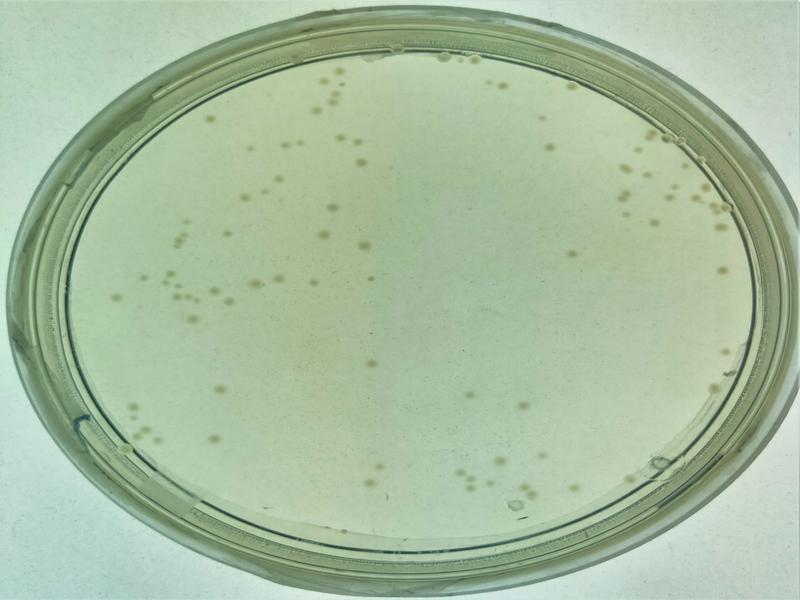colony: (206, 375, 239, 410), (308, 221, 340, 249), (484, 444, 517, 471), (710, 259, 738, 289), (300, 267, 328, 295), (513, 392, 542, 419), (453, 386, 487, 409), (561, 238, 590, 264), (202, 428, 231, 453), (532, 136, 568, 156), (354, 231, 380, 258), (357, 350, 387, 372), (357, 474, 383, 499), (344, 153, 377, 172), (319, 193, 344, 217), (267, 264, 287, 293), (330, 122, 353, 147), (181, 308, 204, 333)
